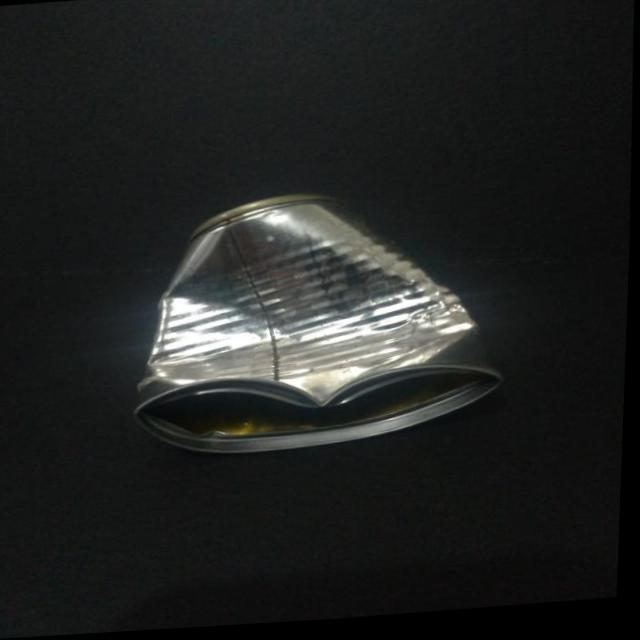metal: (136, 195, 499, 452)
